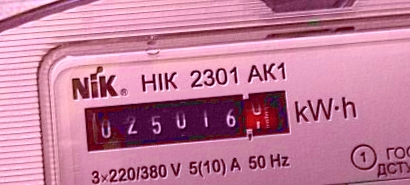0: (174, 106, 190, 130), (99, 117, 113, 140), (249, 95, 263, 116)
1: (199, 104, 212, 129), (253, 118, 262, 130)
2: (124, 112, 139, 136)
5: (149, 113, 162, 135)
6: (223, 104, 238, 130)
screen: (74, 79, 300, 159)
